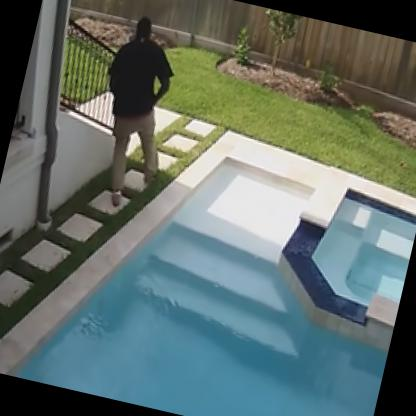Human Body: (73, 6, 195, 222)
